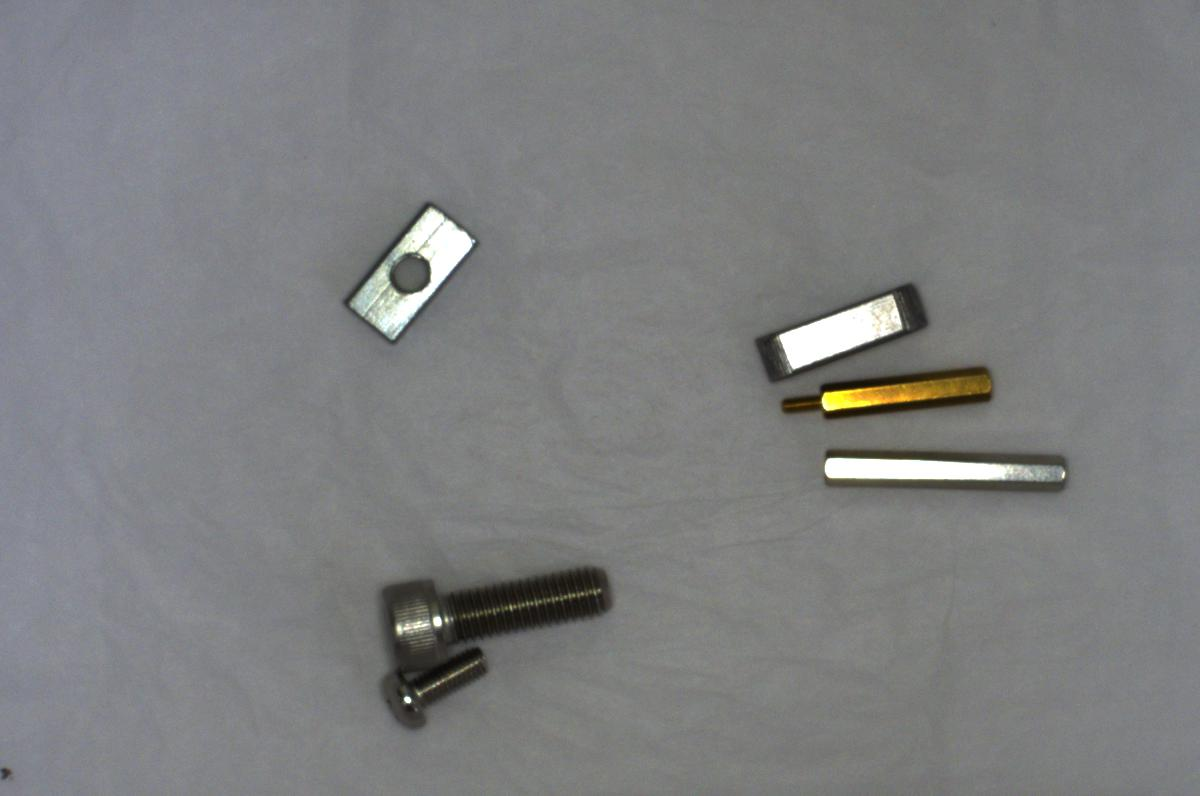Double hexagonal column: (808, 428, 1085, 505)
Hexagon pillar: (773, 351, 1006, 431)
Hexagon screw: (361, 550, 625, 673)
Keybar: (747, 271, 947, 390)
Rectangular nut: (334, 191, 484, 346)
Round head screw: (367, 636, 507, 742)
